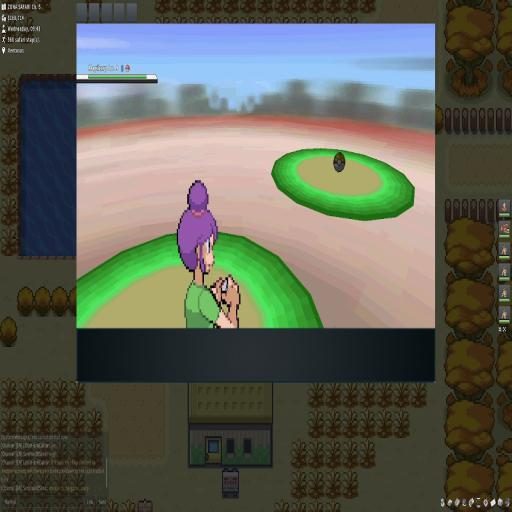SUCESSFULCAPTURE: (333, 152, 346, 173)
